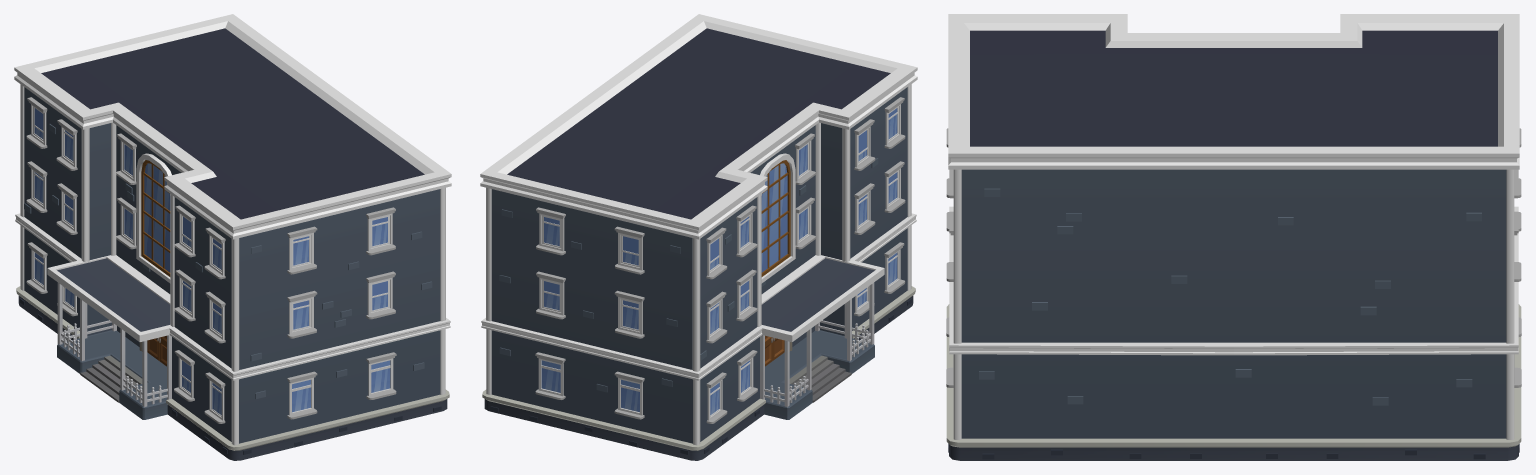
The model's file is Building_5_2_N.fbx.
3 renders of one model, left to right at view 1: azimuth 30°, elevation 25°; view 2: azimuth 150°, elevation 25°; view 3: azimuth 270°, elevation 25°, orthographic. The views are drawn at different scales.
Visible parts, largest first — view 1: Building_5_2_N; view 2: Building_5_2_N; view 3: Building_5_2_N.
Part boxes in pixels (x1,y1,x2,y2): Building_5_2_N: (14,14,451,460); Building_5_2_N: (480,14,917,460); Building_5_2_N: (946,14,1521,460).
Bounding box in the file's own units: 1251 × 1126 × 1908.
